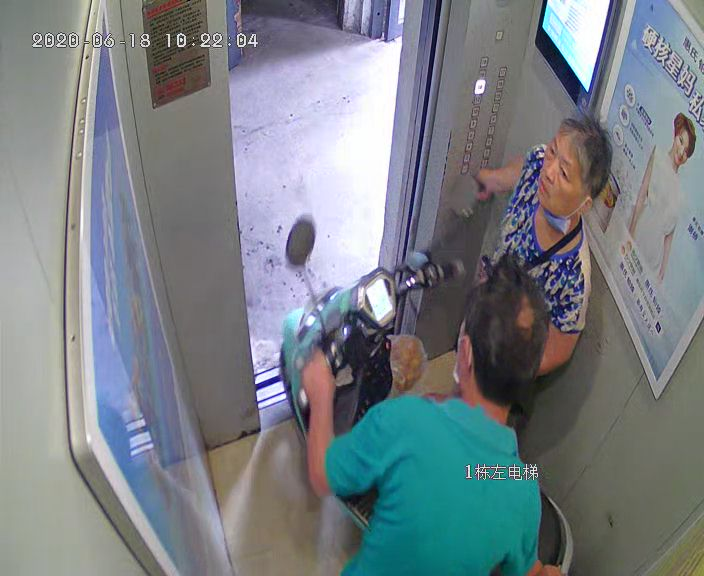Electric-bicycle: (281, 174, 569, 574)
